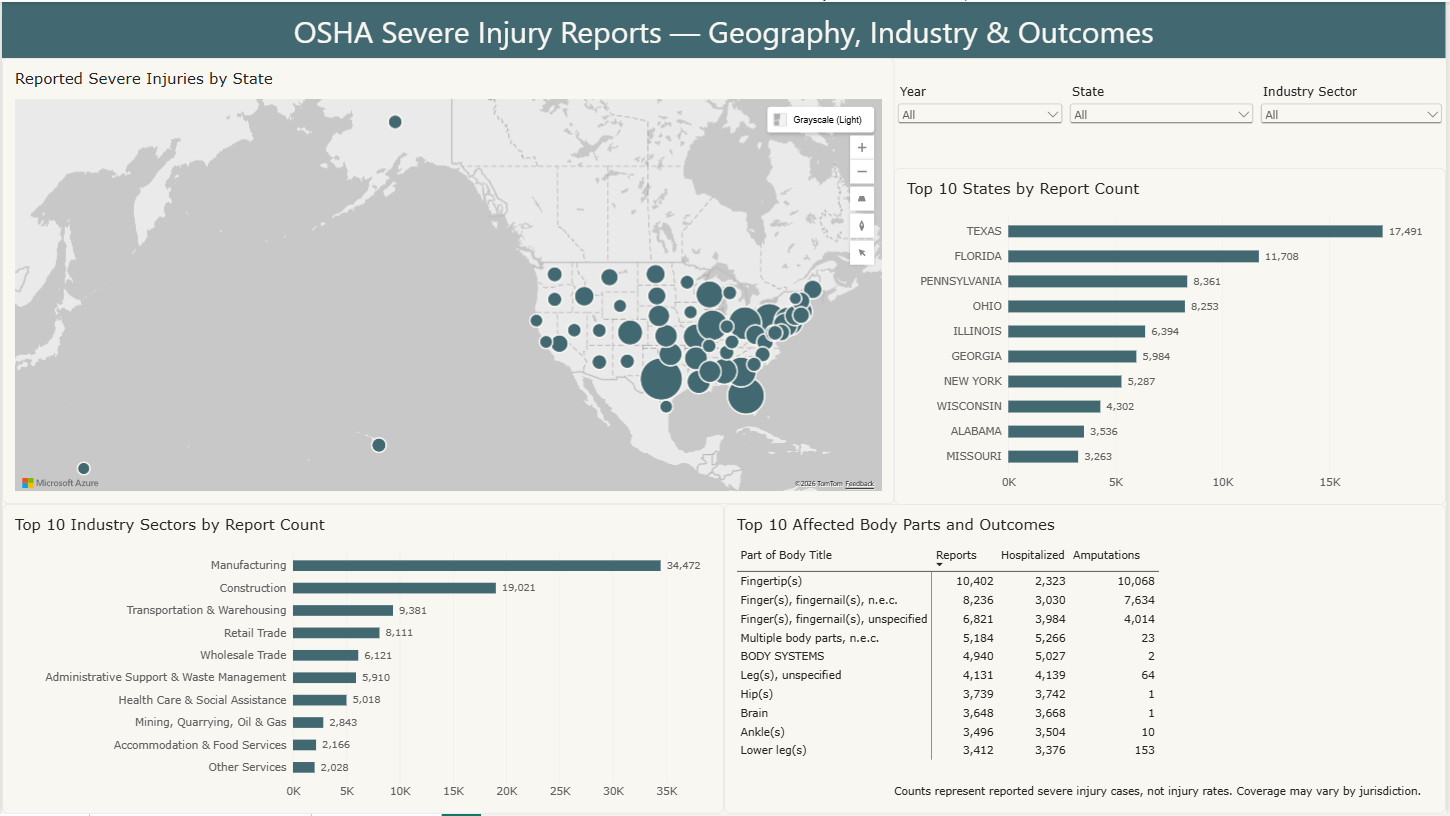

The dashboard page shown, as its layout file describes it:
{"tool":"powerbi","page":{"name":"Geography, Industry & Outcomes","canvas":[1920,1080],"ordinal":1},"visuals":[{"type":"shape","box":[0,0,1920,74.7],"z":0},{"type":"azureMap","title":"Reported Severe Injuries by State","fields":{"Category":["OSHA_Severe_Injuries_2015_2025.State Map"],"Size":["OSHA_Severe_Injuries_2015_2025.Total Reports"]},"box":[0,74.7,1186.7,593.3],"z":1000},{"type":"clusteredBarChart","title":"Top 10 States by Report Count","fields":{"Category":["OSHA_Severe_Injuries_2015_2025.State"],"Y":["OSHA_Severe_Injuries_2015_2025.Total Reports"]},"box":[1186.1,220.3,733.9,447.9],"z":2000},{"type":"slicer","fields":{"Values":["OSHA_Severe_Injuries_2015_2025.EventDate.Variation.Date Hierarchy.Year"]},"box":[1186.1,109.4,229.1,83.2],"z":3000},{"type":"slicer","fields":{"Values":["OSHA_Severe_Injuries_2015_2025.NAICS Sector"]},"box":[1669.2,109.1,251.4,91.8],"z":4000},{"type":"slicer","fields":{"Values":["OSHA_Severe_Injuries_2015_2025.State"]},"box":[1415.2,109.1,254,91.8],"z":5000},{"type":"pivotTable","title":"Top 10 Affected Body Parts and Outcomes","fields":{"Rows":["OSHA_Severe_Injuries_2015_2025.Part of Body Title"],"Values":["OSHA_Severe_Injuries_2015_2025.Total Reports","OSHA_Severe_Injuries_2015_2025.Hospitalized Workers","OSHA_Severe_Injuries_2015_2025.Reported Amputations"]},"box":[960.3,667.7,960.3,412.3],"z":6000},{"type":"barChart","title":"Top 10 Industry Sectors by Report Count","fields":{"Category":["OSHA_Severe_Injuries_2015_2025.NAICS Sector"],"Y":["OSHA_Severe_Injuries_2015_2025.Total Reports"]},"box":[0,668,960,412],"z":7000},{"type":"textbox","box":[1186.4,1040,723.5,25.3],"z":8000}]}

Visuals, with their boxes in screenshot pixels (x1, y1, x2, y2), scaled from the page's 1920x1080 canvas onto the 1450x816 screenshot:
shape: select_region(0, 0, 1449, 56)
"Reported Severe Injuries by State" azureMap: select_region(0, 56, 896, 505)
"Top 10 States by Report Count" clusteredBarChart: select_region(896, 166, 1449, 505)
slicer - OSHA_Severe_Injuries_2015_2025.EventDate.Variation.Date Hierarchy.Year: select_region(896, 83, 1069, 146)
slicer - OSHA_Severe_Injuries_2015_2025.NAICS Sector: select_region(1261, 82, 1449, 152)
slicer - OSHA_Severe_Injuries_2015_2025.State: select_region(1069, 82, 1261, 152)
"Top 10 Affected Body Parts and Outcomes" pivotTable: select_region(725, 504, 1449, 815)
"Top 10 Industry Sectors by Report Count" barChart: select_region(0, 505, 725, 815)
textbox: select_region(896, 786, 1442, 805)
